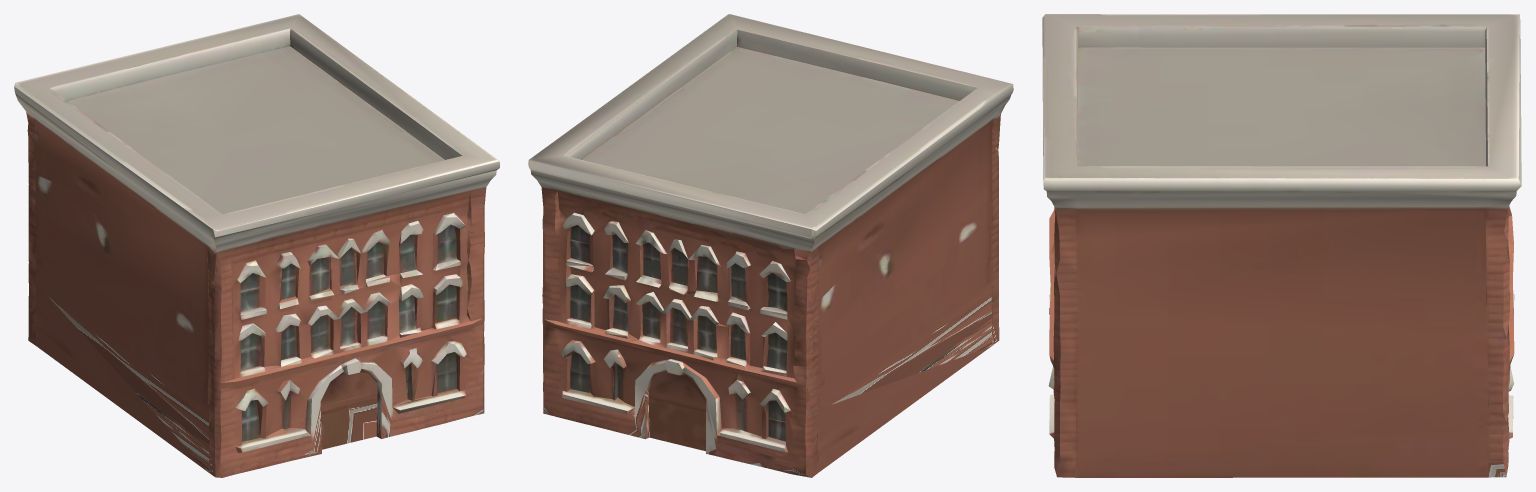
File: soma-warehouse.glb
The picture shows the model from 3 angles, left to right: view 1: azimuth 30°, elevation 25°; view 2: azimuth 150°, elevation 25°; view 3: azimuth 270°, elevation 25°; orthographic projection. The views are drawn at different scales.
Visible parts, largest first — view 1: soma-warehouse; view 2: soma-warehouse; view 3: soma-warehouse.
Part boxes in pixels (x1=…): soma-warehouse: x1=14, y1=14, x2=499, y2=477; soma-warehouse: x1=528, y1=14, x2=1013, y2=477; soma-warehouse: x1=1042, y1=14, x2=1521, y2=477.
Size of the model in its own units: 6.6 by 5.6 by 8.
Materials: 1 (1 with a texture image).
